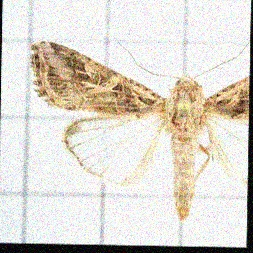Spodoptera litura: (28, 36, 248, 221)
